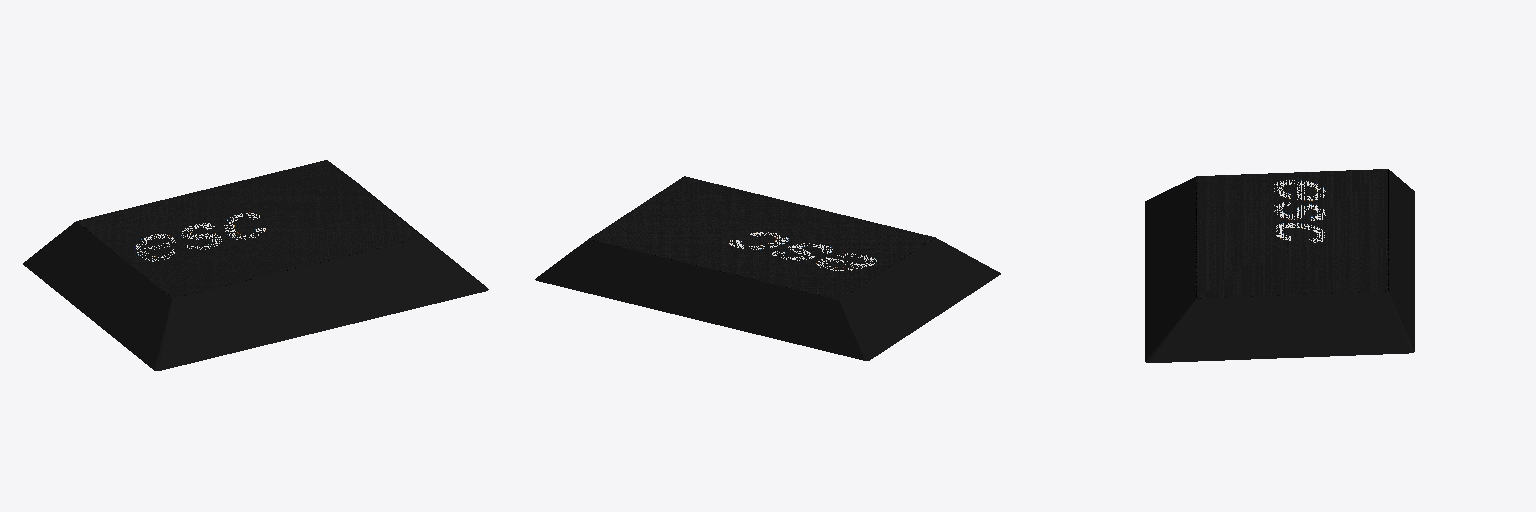
The picture shows the model from 3 angles: view 1: azimuth 30°, elevation 25°; view 2: azimuth 150°, elevation 25°; view 3: azimuth 270°, elevation 25°; orthographic projection.
Parts seen in each view (by area): view 1: Group4/mesh3/mesh3-geometry#mesh3-geometry; view 2: Group4/mesh3/mesh3-geometry#mesh3-geometry; view 3: Group4/mesh3/mesh3-geometry#mesh3-geometry.
Part boxes in pixels (left/top/right/bottom): Group4/mesh3/mesh3-geometry#mesh3-geometry: left=23, top=160, right=488, bottom=370; Group4/mesh3/mesh3-geometry#mesh3-geometry: left=535, top=176, right=1000, bottom=360; Group4/mesh3/mesh3-geometry#mesh3-geometry: left=1145, top=169, right=1414, bottom=362.
Size of the model in its own units: 0.0754 by 0.0111 by 0.0525.
2 materials, 1 textured.